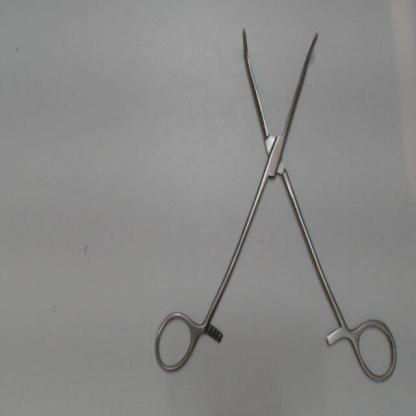Lahey Forceps: (146, 18, 409, 388)
